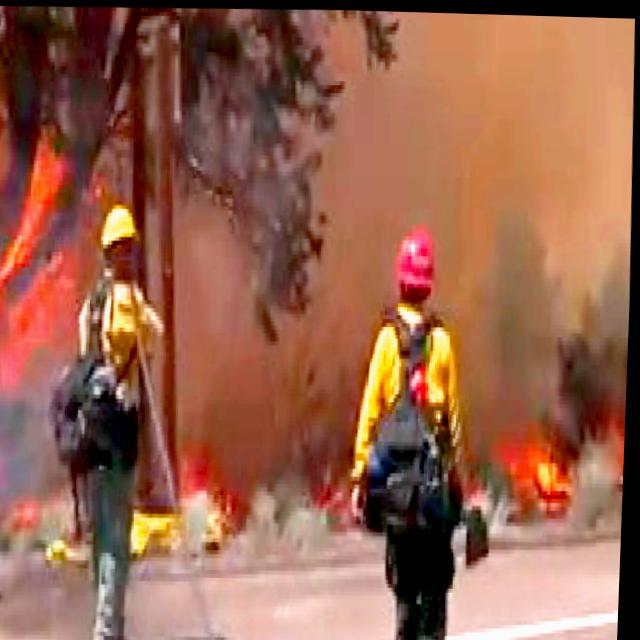fire: (0, 4, 69, 477)
smoke: (441, 10, 638, 265)
